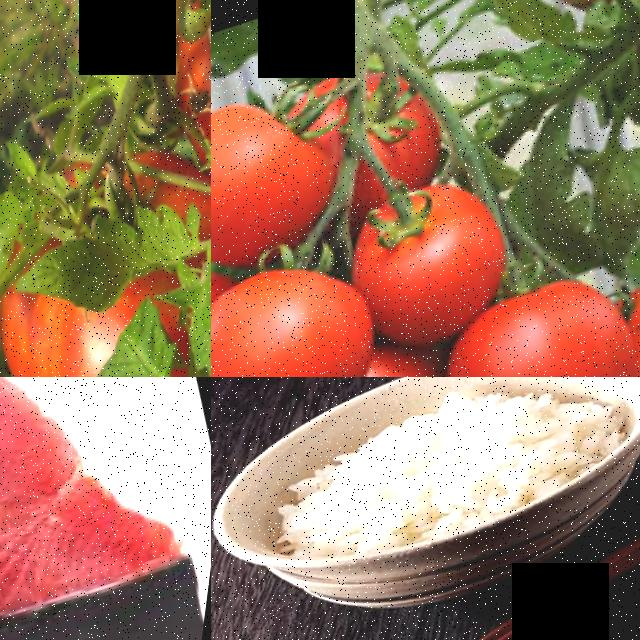tomato: (331, 161, 541, 356), (211, 73, 365, 286), (211, 236, 420, 377), (426, 260, 640, 377)
tuna: (0, 377, 211, 640)
white rice: (251, 377, 640, 588)
